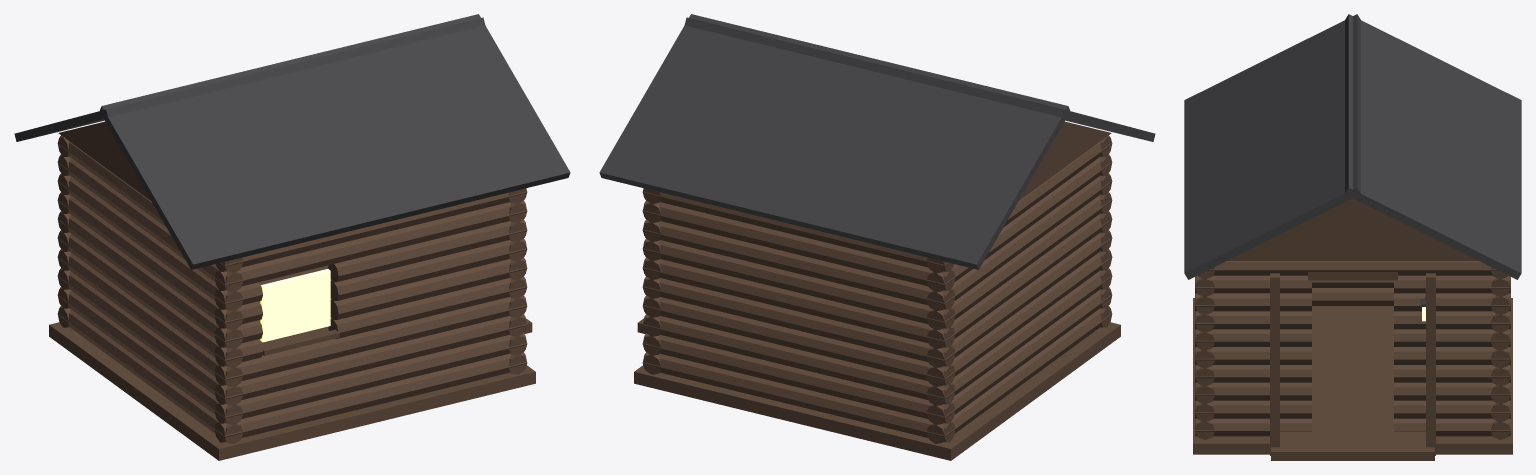
Rendered from cabin.glb.
The picture shows the model from 3 angles, left to right: view 1: azimuth 30°, elevation 25°; view 2: azimuth 150°, elevation 25°; view 3: azimuth 270°, elevation 25°; orthographic projection. The views are drawn at different scales.
Visible parts, largest first — view 1: cabin; view 2: cabin; view 3: cabin.
Boxes of the visible parts, box(x1,y1,x2,y2) form: cabin: box(14, 14, 570, 460); cabin: box(599, 14, 1155, 460); cabin: box(1184, 14, 1521, 460).
Bounding box in the file's own units: 5.1 × 3.78 × 4.11.
